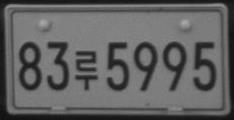3: (46, 40, 69, 90)
5: (192, 41, 217, 91), (106, 41, 129, 91)
8: (17, 40, 42, 90)
9: (161, 40, 188, 91), (133, 41, 158, 91)
루: (74, 49, 98, 91)
